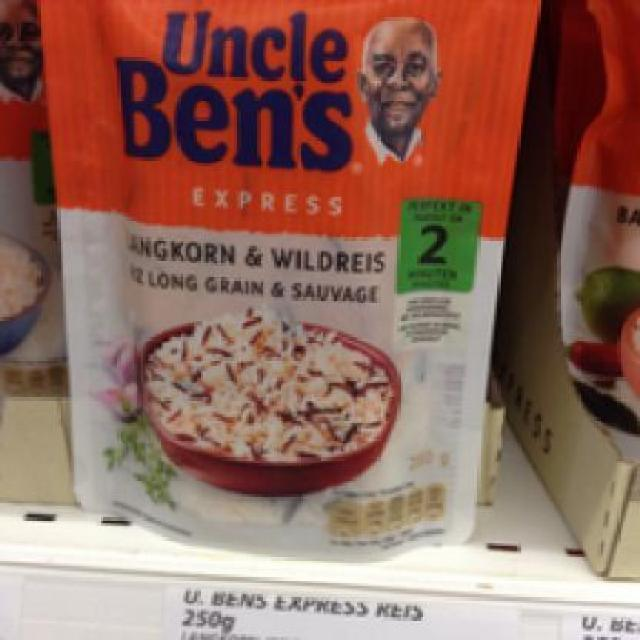Rice: (34, 0, 537, 560)
